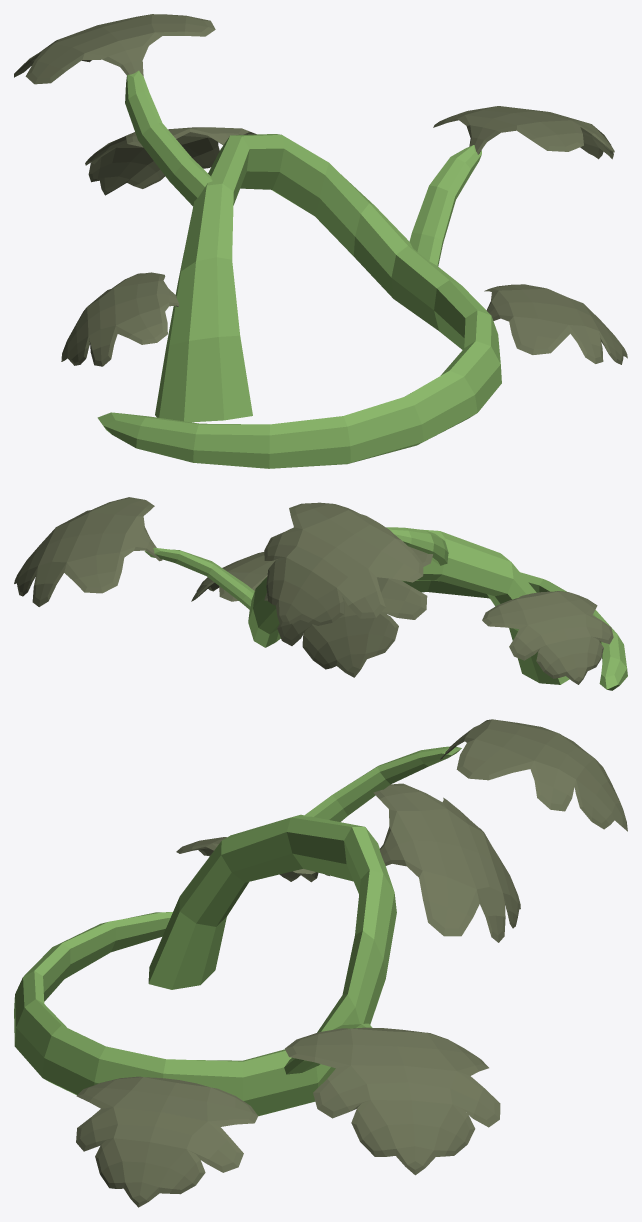
Rendered from watermelon_harvested.glb.
3 views of the same model, one above another, from view 1: azimuth 30°, elevation 25°; view 2: azimuth 150°, elevation 25°; view 3: azimuth 270°, elevation 25° (orthographic). The views are drawn at different scales.
Parts seen in each view (by area): view 1: Watermelon_Harvested; view 2: Watermelon_Harvested; view 3: Watermelon_Harvested.
Part boxes in pixels (box(x1,y1,x2,y2)): Watermelon_Harvested: box(14, 14, 627, 468); Watermelon_Harvested: box(14, 497, 627, 690); Watermelon_Harvested: box(14, 719, 627, 1207).
Bounding box in the file's own units: 1.29 × 0.59 × 1.08.
